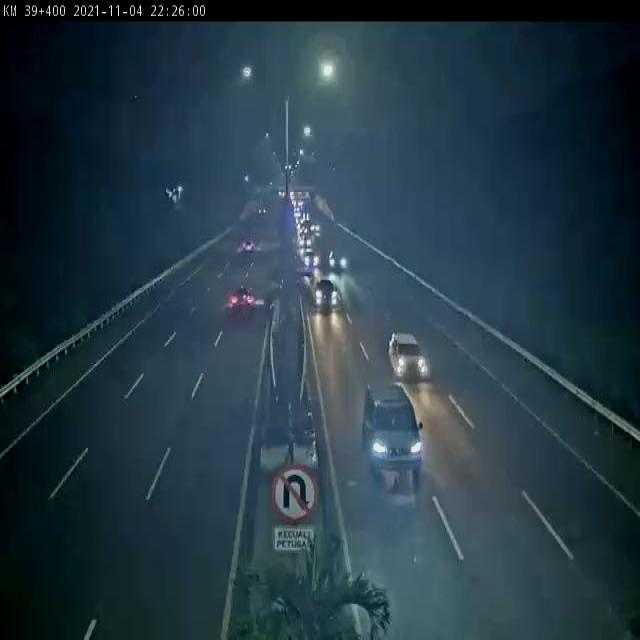Car: (363, 377, 422, 497), (388, 322, 428, 388), (313, 276, 347, 314), (227, 286, 256, 316), (328, 247, 351, 275), (238, 237, 260, 259), (302, 250, 323, 273)
